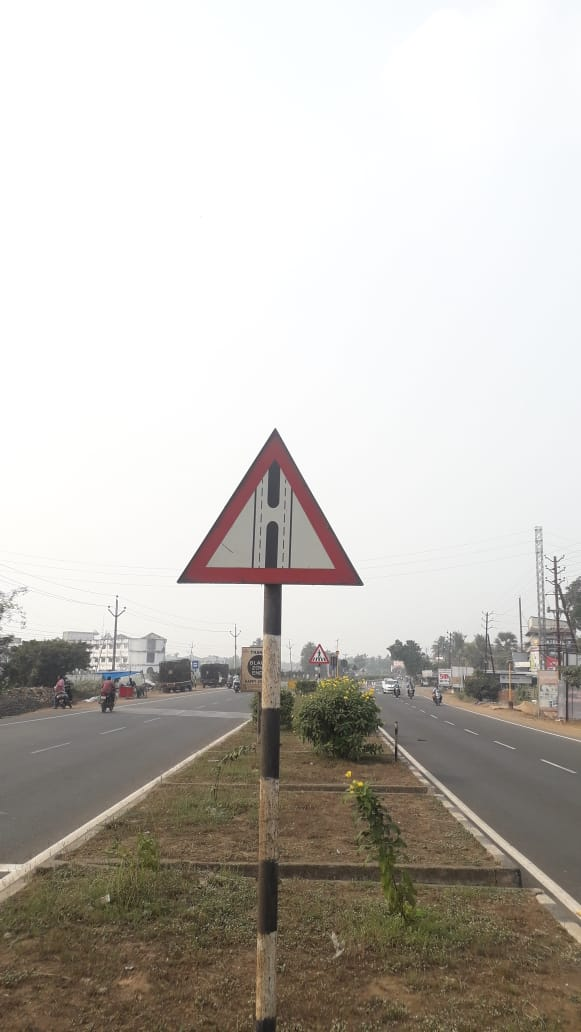highway go straight: (166, 427, 366, 608)
